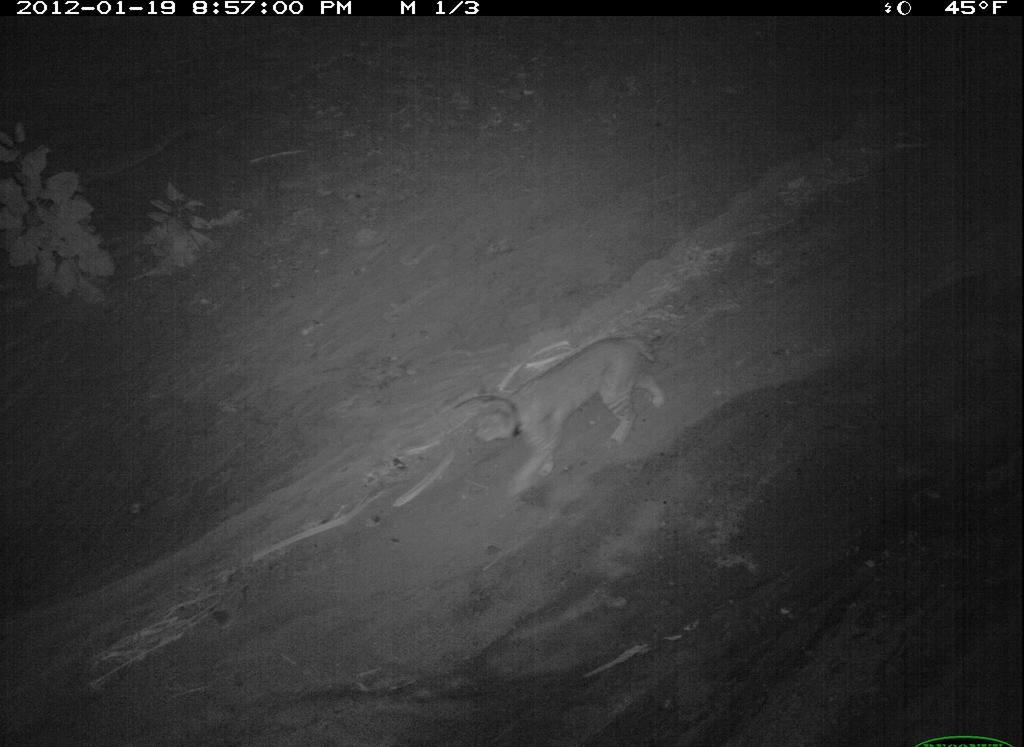bobcat: (938, 651, 1024, 747)
